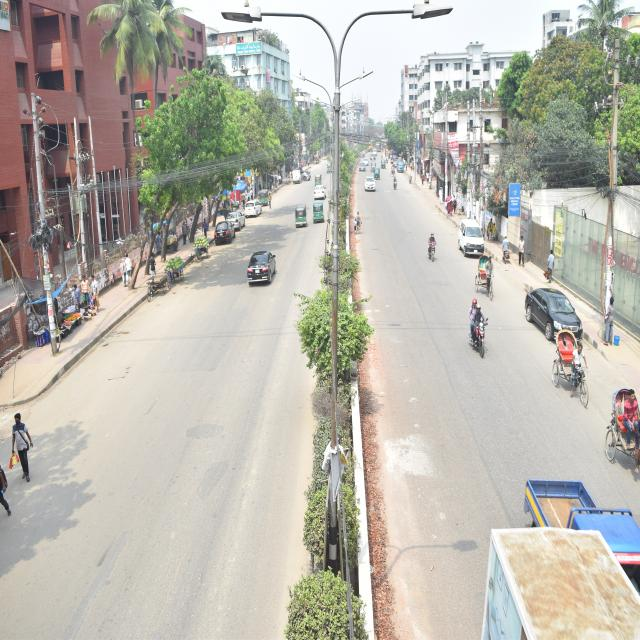car: (520, 276, 587, 362), (239, 240, 303, 311), (455, 209, 489, 277), (211, 212, 241, 249), (241, 192, 268, 227), (226, 200, 250, 233), (309, 177, 331, 209), (360, 172, 377, 208), (357, 157, 368, 178)
motorbike: (452, 266, 496, 376), (421, 218, 440, 280)
pickup-van: (523, 472, 640, 625), (288, 161, 310, 198)
